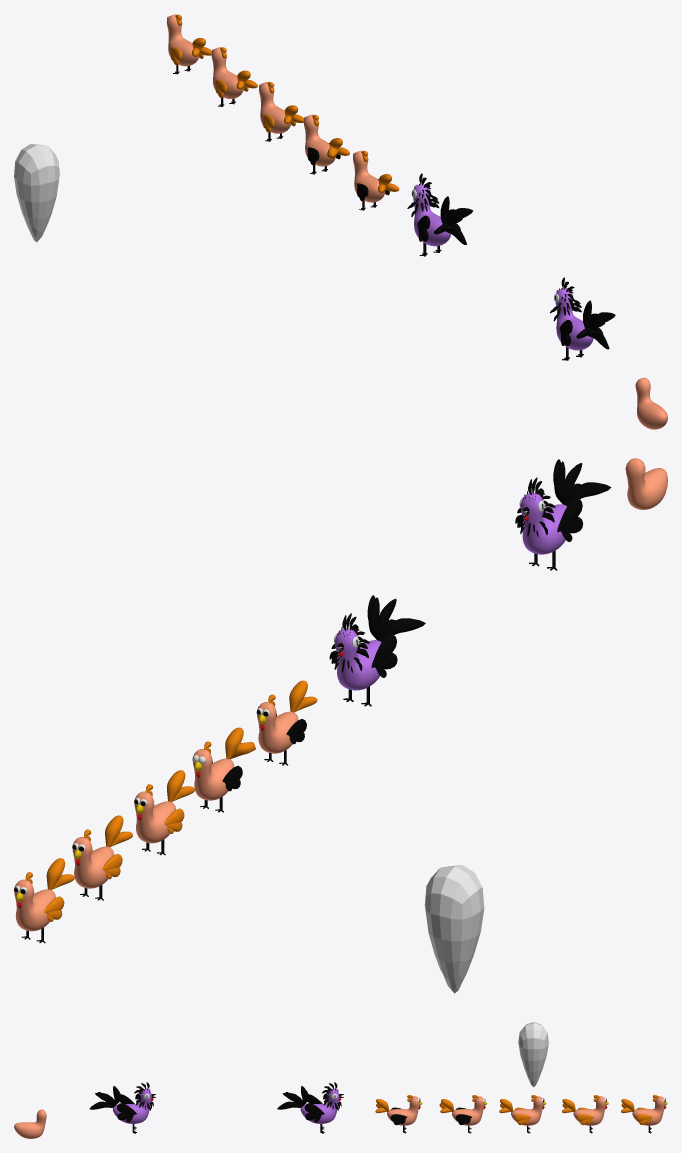
The model's file is nicePouleQuiADesYeux.fbx.
The picture shows the model from 3 angles, top to bottom: view 1: azimuth 30°, elevation 25°; view 2: azimuth 150°, elevation 25°; view 3: azimuth 270°, elevation 25°; orthographic projection. The views are drawn at different scales.
Parts seen in each view (by area): view 1: Cube.006, Cube.102, Cube.032, Cube.129, Cube.002, Cube.033, Cube.013, Cube.103, Cube; view 2: Cube.006, Cube.102, Cube.032, Cube.129, Cube.033, Cube.002, Cube.013, Cube, Cube.103; view 3: Cube.102, Cube.006, Cube.032, Cube.129, Cube.002, Cube.033, Cube.103, Cube, Cube.013, Cube.099.
Part boxes in pixels (x1=…): Cube.006: x1=14, y1=144, x2=59, y2=242; Cube.102: x1=407, y1=173, x2=473, y2=256; Cube.032: x1=303, y1=114, x2=349, y2=174; Cube.129: x1=167, y1=14, x2=211, y2=74; Cube.002: x1=635, y1=377, x2=667, y2=429; Cube.033: x1=555, y1=288, x2=593, y2=350; Cube.013: x1=353, y1=150, x2=385, y2=202; Cube.103: x1=211, y1=47, x2=243, y2=98; Cube: x1=259, y1=82, x2=291, y2=133; Cube.006: x1=424, y1=865, x2=484, y2=993; Cube.102: x1=329, y1=595, x2=425, y2=706; Cube.032: x1=192, y1=727, x2=255, y2=812; Cube.129: x1=14, y1=858, x2=74, y2=943; Cube.033: x1=520, y1=492, x2=566, y2=554; Cube.002: x1=625, y1=458, x2=667, y2=509; Cube.013: x1=256, y1=702, x2=298, y2=753; Cube: x1=134, y1=791, x2=175, y2=843; Cube.103: x1=72, y1=837, x2=114, y2=888; Cube.102: x1=277, y1=1082, x2=343, y2=1133; Cube.006: x1=518, y1=1022, x2=548, y2=1087; Cube.032: x1=439, y1=1095, x2=487, y2=1133; Cube.129: x1=621, y1=1095, x2=667, y2=1133; Cube.002: x1=14, y1=1109, x2=46, y2=1138; Cube.033: x1=112, y1=1088, x2=151, y2=1123; Cube.103: x1=573, y1=1096, x2=605, y2=1125; Cube: x1=511, y1=1096, x2=542, y2=1125; Cube.013: x1=387, y1=1096, x2=418, y2=1125; Cube.099: x1=116, y1=1094, x2=136, y2=1114.
Size of the model in its own units: 503 by 217 by 1588.
